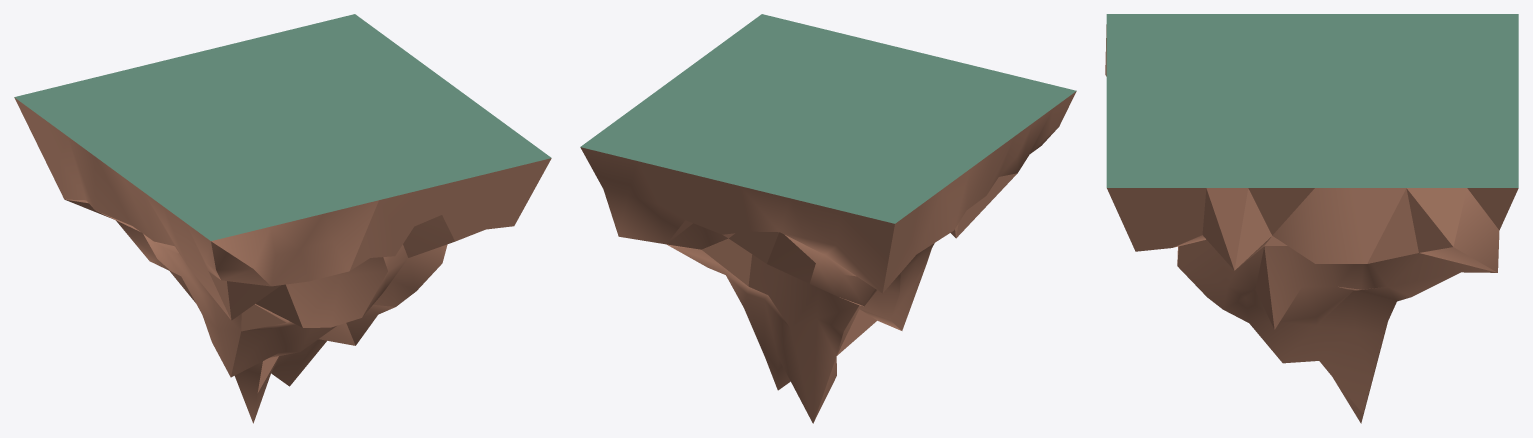
The model's file is Floor.fbx.
3 renders of one model, left to right at view 1: azimuth 30°, elevation 25°; view 2: azimuth 150°, elevation 25°; view 3: azimuth 270°, elevation 25°, orthographic. The views are drawn at different scales.
Visible parts, largest first — view 1: Floor; view 2: Floor; view 3: Floor.
Boxes of the visible parts, x1,y1,x2,y2 form: Floor: (14,14,551,423); Floor: (580,14,1076,423); Floor: (1105,14,1518,423).
Bounding box in the file's own units: 379 × 324 × 372.
